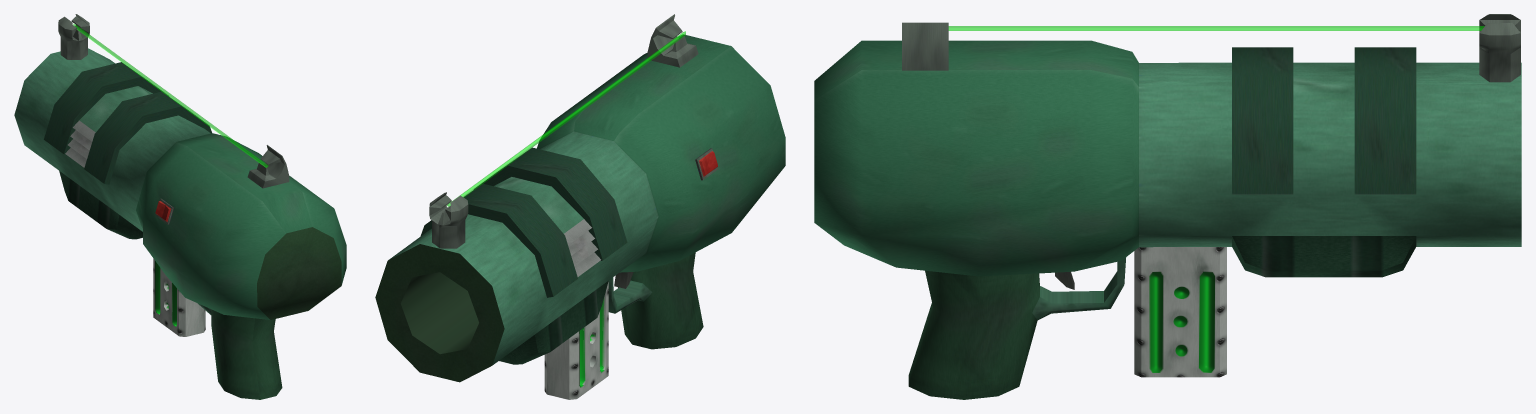
The model's file is LaserGun.FBX.
3 views of the same model, side by side, from view 1: azimuth 30°, elevation 25°; view 2: azimuth 150°, elevation 25°; view 3: azimuth 270°, elevation 25° (orthographic). The views are drawn at different scales.
Visible parts, largest first — view 1: toonGun_Main, Clip, laser beam; view 2: toonGun_Main, Clip, laser beam; view 3: toonGun_Main, Clip, laser beam.
Part boxes in pixels (x1=…): toonGun_Main: x1=14, y1=14, x2=346, y2=399; Clip: x1=153, y1=258, x2=205, y2=336; laser beam: x1=73, y1=24, x2=268, y2=167; toonGun_Main: x1=375, y1=14, x2=785, y2=382; Clip: x1=544, y1=282, x2=608, y2=399; laser beam: x1=447, y1=31, x2=685, y2=206; toonGun_Main: x1=814, y1=14, x2=1521, y2=399; Clip: x1=1134, y1=247, x2=1226, y2=377; laser beam: x1=948, y1=26, x2=1484, y2=30.
Bounding box in the file's own units: 48.63 × 87.18 × 152.
